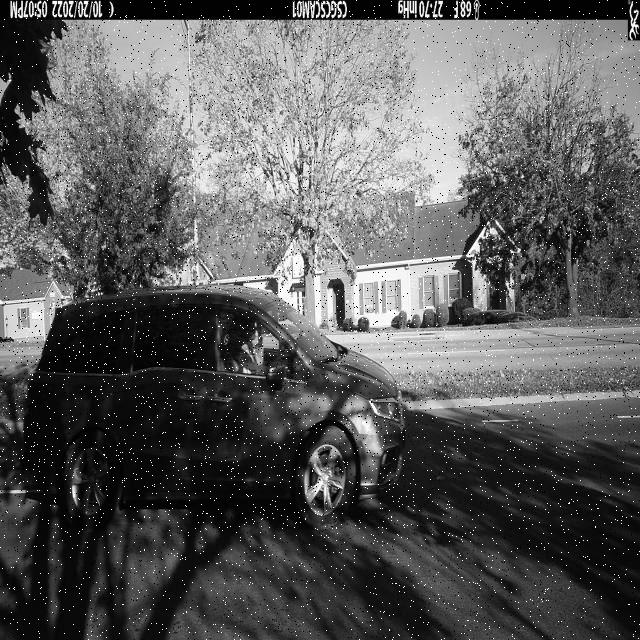Van: (19, 286, 406, 529)
